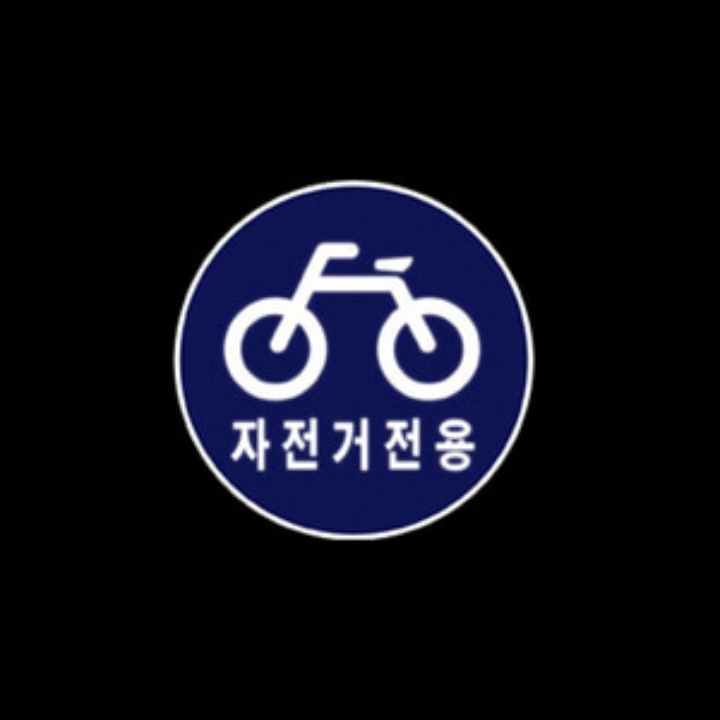bicycle: (113, 87, 605, 579)
